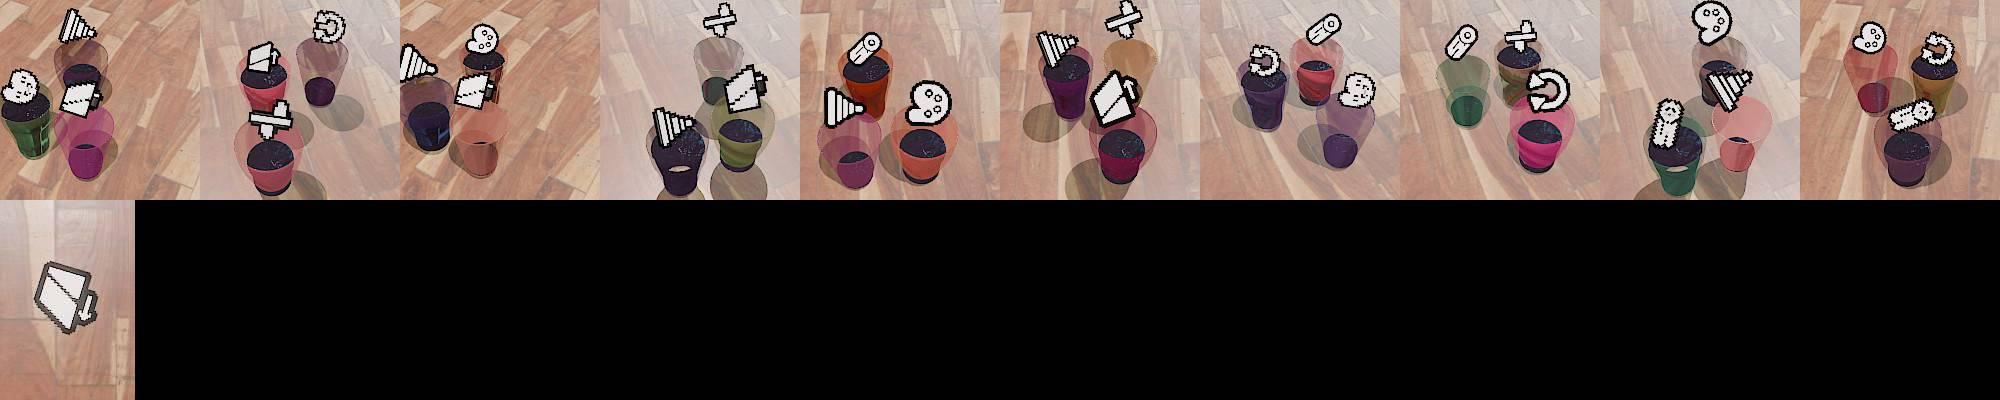icon: (32, 261, 101, 336), (1089, 67, 1142, 127), (722, 62, 768, 115), (905, 78, 952, 126), (1705, 67, 1753, 113), (1526, 67, 1571, 114), (248, 99, 296, 143), (652, 104, 700, 147), (1650, 96, 1684, 151), (1691, 1, 1732, 45), (825, 87, 866, 130), (1887, 96, 1935, 132), (1036, 30, 1079, 70), (453, 69, 495, 109), (399, 42, 439, 83), (1104, 0, 1144, 40), (1336, 69, 1376, 109), (59, 80, 101, 118), (2, 68, 43, 106), (57, 8, 97, 45), (1306, 12, 1343, 48), (1502, 19, 1539, 55), (245, 40, 283, 75), (702, 2, 738, 38), (846, 31, 882, 67), (1445, 23, 1479, 61), (1247, 44, 1283, 79), (1853, 20, 1887, 54), (312, 8, 345, 43), (1921, 32, 1954, 64), (468, 24, 497, 50)
